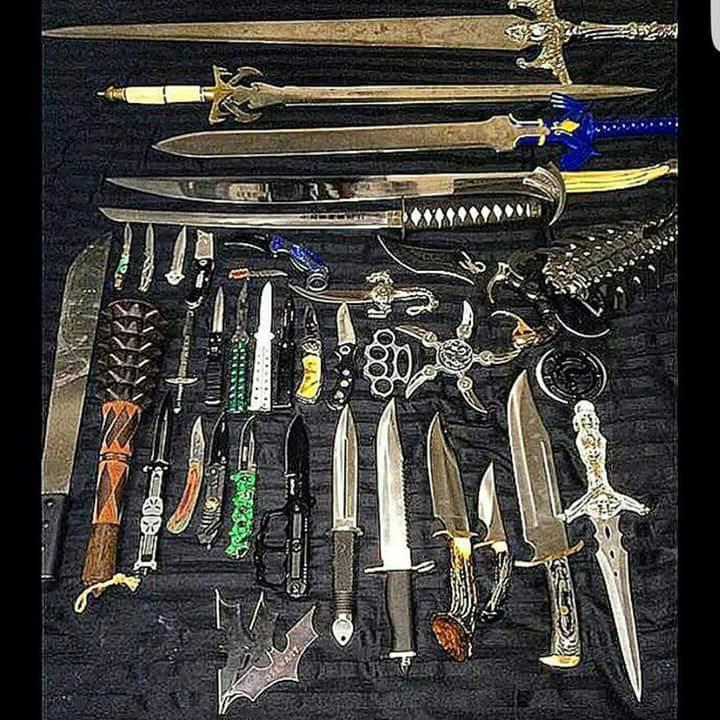espada: (44, 14, 680, 76), (81, 60, 656, 108), (560, 401, 649, 699), (161, 112, 684, 150), (101, 158, 674, 192), (99, 197, 533, 234)
faca: (507, 370, 583, 668), (365, 398, 432, 672), (427, 412, 478, 661), (269, 410, 314, 600), (332, 404, 361, 643), (287, 274, 438, 318), (475, 462, 512, 620), (166, 416, 205, 534), (225, 412, 256, 559), (197, 413, 227, 548), (248, 281, 274, 412), (227, 282, 251, 414), (167, 305, 197, 407), (330, 303, 357, 410), (204, 286, 224, 405), (113, 224, 132, 290), (165, 227, 184, 285), (138, 224, 154, 292)
facao: (50, 226, 101, 590)
